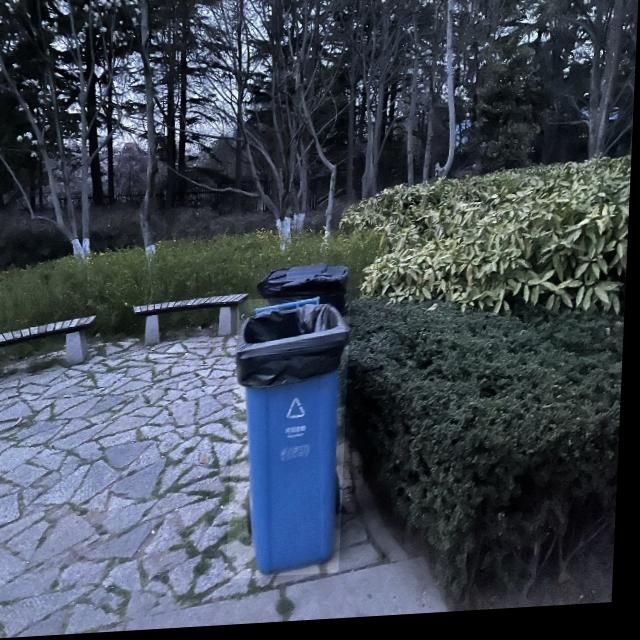garbage_bin: (231, 298, 354, 582)
